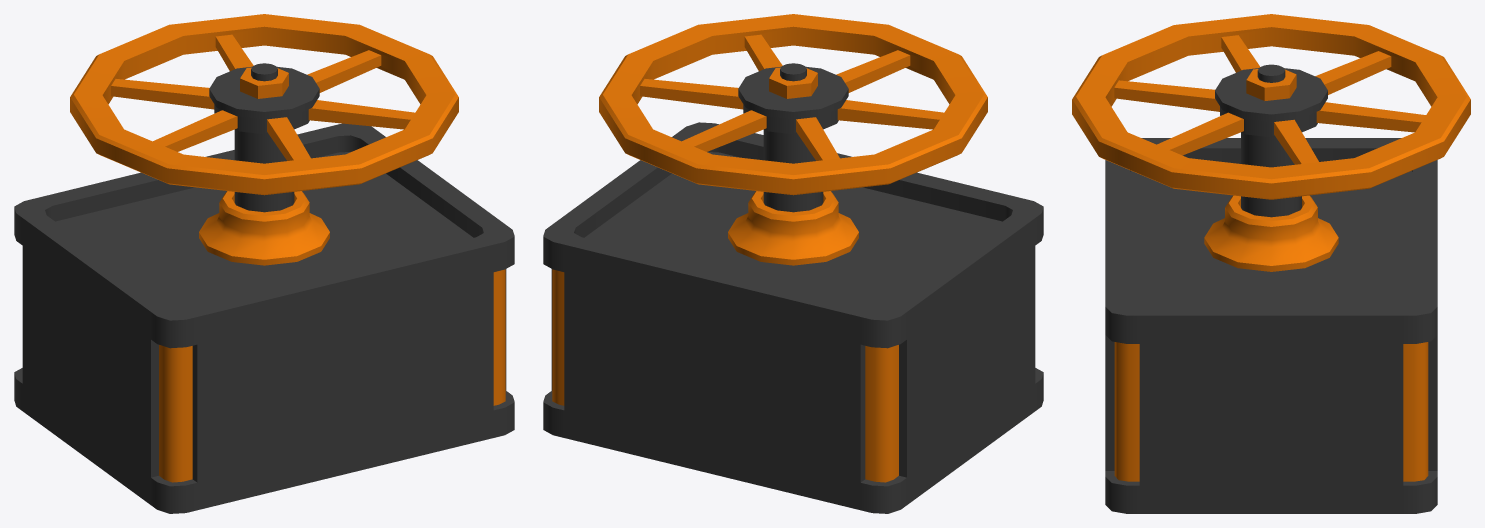
Rendered from Valve.fbx.
The picture shows the model from 3 angles, left to right: view 1: azimuth 30°, elevation 25°; view 2: azimuth 150°, elevation 25°; view 3: azimuth 270°, elevation 25°; orthographic projection. The views are drawn at different scales.
Parts seen in each view (by area): view 1: Valve_Base, Valve; view 2: Valve_Base, Valve; view 3: Valve_Base, Valve.
Part boxes in pixels (x1,y1,x2,y2): Valve_Base: (14,123,514,513); Valve: (70,14,458,212); Valve_Base: (543,122,1043,513); Valve: (599,14,987,212); Valve_Base: (1105,138,1437,513); Valve: (1072,14,1470,217).
Bounding box in the file's own units: 48.41 × 45.01 × 45.85.
